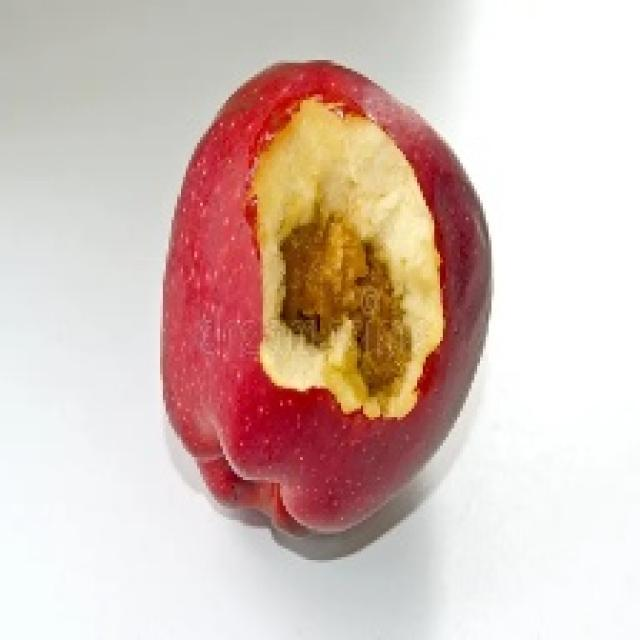rotten_apple: (166, 62, 489, 532)
